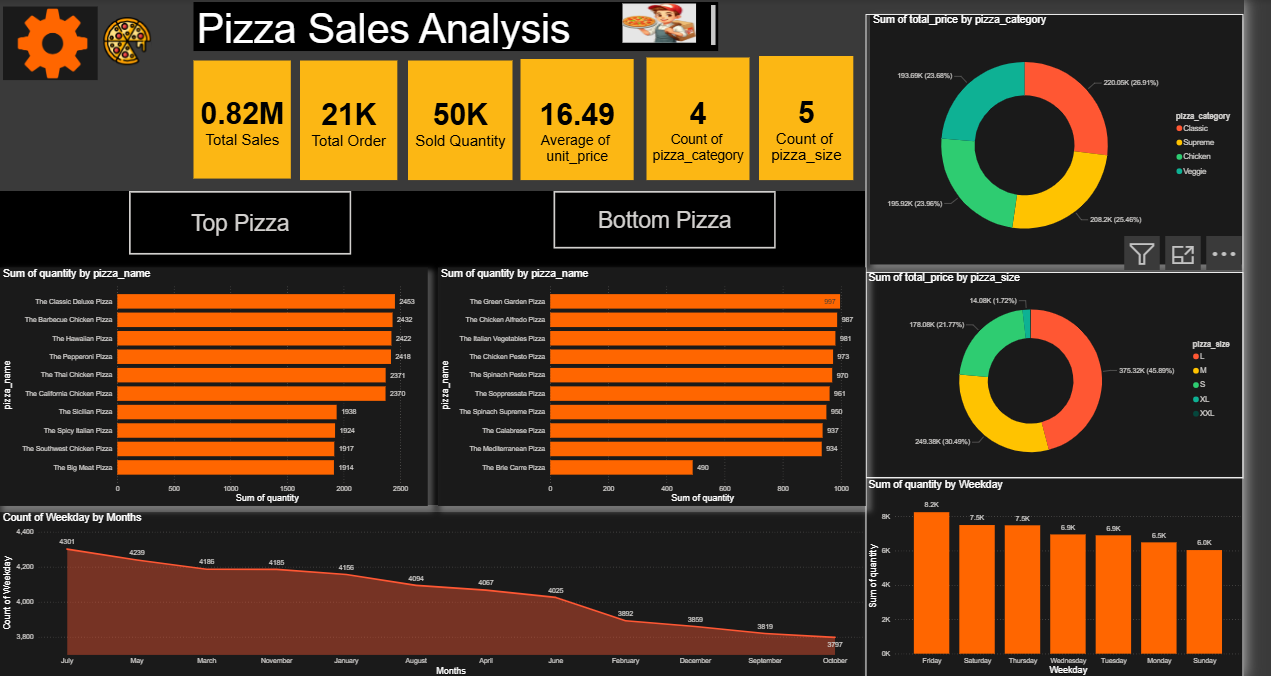

Layout of this report page (visuals, bound fields, positions):
{"tool":"powerbi","page":{"name":"Pizza Sales Analysis ","canvas":[2200,1200],"ordinal":0},"visuals":[{"type":"shape","box":[0,0,320.6,1200],"z":0,"group":"g3"},{"type":"donutChart","fields":{"Category":["pizza_sales.pizza_category"],"Y":["Sum(pizza_sales.total_price)"]},"box":[1538.5,27,657.5,442.7],"z":0,"group":"g1"},{"type":"barChart","fields":{"Category":["pizza_sales.pizza_name"],"Y":["Sum(pizza_sales.quantity)"]},"box":[773.2,473.8,755.9,421.3],"z":0,"group":"g2"},{"type":"areaChart","fields":{"Category":["pizza_sales.Months"],"Y":["CountNonNull(pizza_sales.Weekday)"]},"box":[0,906.6,1529.6,294.3],"z":0},{"type":"group","id":"g1","title":"Group 1","box":[1529.6,27,669,1172.6],"z":1000},{"type":"card","fields":{"Values":["pizza_sales.Total Sales"]},"box":[342,108.6,171.8,208.8],"z":1000,"group":"g4"},{"type":"barChart","fields":{"Category":["pizza_sales.pizza_name"],"Y":["Sum(pizza_sales.quantity)"]},"box":[0,473.8,755.9,421.3],"z":1000,"group":"g2"},{"type":"donutChart","fields":{"Y":["Sum(pizza_sales.total_price)"],"Category":["pizza_sales.pizza_size"]},"box":[1530.6,483,668.1,363.2],"z":1000,"group":"g1"},{"type":"actionButton","box":[3.2,1089.9,281.3,83.1],"z":1000,"group":"g3"},{"type":"group","id":"g2","title":"Group 4","box":[0,339.3,1529.6,554.1],"z":2000},{"type":"actionButton","box":[228.3,339.3,392.9,112.5],"z":2000,"group":"g2"},{"type":"slicer","fields":{"Values":["pizza_sales.Months"]},"box":[10.6,368.5,289,114],"z":2000,"group":"g3"},{"type":"columnChart","fields":{"Category":["pizza_sales.Weekday"],"Y":["Sum(pizza_sales.quantity)"]},"box":[1529.6,848.3,668.5,351.4],"z":2000,"group":"g1"},{"type":"image","title":"show","box":[0,3.2,177.7,151.9],"z":3000},{"type":"card","fields":{"Values":["pizza_sales.Total Order"]},"box":[529.5,108.6,171.8,211.4],"z":3000,"group":"g4"},{"type":"actionButton","box":[978.6,339.3,392.9,101.7],"z":3000,"group":"g2"},{"type":"slicer","fields":{"Values":["pizza_sales.order_date"]},"box":[0,943.8,299.6,111.3],"z":3000,"group":"g3"},{"type":"group","id":"g3","title":"Group 5","box":[0,0,320.6,1200],"z":4000},{"type":"card","fields":{"Values":["Avg(pizza_sales.unit_price)"]},"box":[920.5,106.7,199.8,214.1],"z":4000,"group":"g4"},{"type":"slicer","fields":{"Values":["pizza_sales.pizza_category"]},"box":[0,795.3,299.6,111.3],"z":4000,"group":"g3"},{"type":"actionButton","box":[159.9,0,131.5,149.3],"z":5000},{"type":"card","fields":{"Values":["pizza_sales.Sold Quantity"]},"box":[720.6,109.3,184.8,211.4],"z":5000,"group":"g4"},{"type":"slicer","fields":{"Values":["pizza_sales.pizza_size"]},"box":[0,665.4,299.6,111.3],"z":5000,"group":"g3"},{"type":"actionButton","box":[22.4,156.6,262.1,159.8],"z":5500,"group":"g3"},{"type":"textbox","box":[342.4,4.3,927.4,86.7],"z":6000},{"type":"slicer","fields":{"Values":["pizza_sales.Weekday"]},"box":[9.6,521,287.7,118.3],"z":6000,"group":"g3"},{"type":"image","title":"Hide","box":[0,0,177.6,152.2],"z":7000,"group":"g3"},{"type":"actionButton","box":[1100.7,8.7,130,69.3],"z":7000},{"type":"card","fields":{"Values":["Count(pizza_sales.pizza_category)"]},"box":[1141.3,103.3,182.3,216.7],"z":7000,"group":"g4"},{"type":"group","id":"g4","title":"Group 2","box":[342,100.7,1166.4,220],"z":8000},{"type":"card","fields":{"Values":["Count(pizza_sales.pizza_size)"]},"box":[1341.8,100.7,166.6,219.3],"z":9000,"group":"g4"}]}

Visuals, with their boxes in screenshot pixels (x1, y1, x2, y2), scaled from the page's 2200x1200 canvas onto the 1271x676 screenshot:
shape: {"x1": 0, "y1": 0, "x2": 185, "y2": 675}
donutChart - pizza_sales.pizza_category x Sum(pizza_sales.total_price): {"x1": 889, "y1": 15, "x2": 1269, "y2": 265}
barChart - pizza_sales.pizza_name x Sum(pizza_sales.quantity): {"x1": 447, "y1": 267, "x2": 883, "y2": 504}
areaChart - pizza_sales.Months x CountNonNull(pizza_sales.Weekday): {"x1": 0, "y1": 511, "x2": 884, "y2": 675}
"Group 1" group: {"x1": 884, "y1": 15, "x2": 1270, "y2": 675}
card - pizza_sales.Total Sales: {"x1": 198, "y1": 61, "x2": 297, "y2": 179}
barChart - pizza_sales.pizza_name x Sum(pizza_sales.quantity): {"x1": 0, "y1": 267, "x2": 437, "y2": 504}
donutChart - Sum(pizza_sales.total_price) x pizza_sales.pizza_size: {"x1": 884, "y1": 272, "x2": 1270, "y2": 477}
actionButton: {"x1": 2, "y1": 614, "x2": 164, "y2": 661}
"Group 4" group: {"x1": 0, "y1": 191, "x2": 884, "y2": 503}
actionButton: {"x1": 132, "y1": 191, "x2": 359, "y2": 255}
slicer - pizza_sales.Months: {"x1": 6, "y1": 208, "x2": 173, "y2": 272}
columnChart - pizza_sales.Weekday x Sum(pizza_sales.quantity): {"x1": 884, "y1": 478, "x2": 1270, "y2": 675}
"show" image: {"x1": 0, "y1": 2, "x2": 103, "y2": 87}
card - pizza_sales.Total Order: {"x1": 306, "y1": 61, "x2": 405, "y2": 180}
actionButton: {"x1": 565, "y1": 191, "x2": 792, "y2": 248}
slicer - pizza_sales.order_date: {"x1": 0, "y1": 532, "x2": 173, "y2": 594}
"Group 5" group: {"x1": 0, "y1": 0, "x2": 185, "y2": 675}
card - Avg(pizza_sales.unit_price): {"x1": 532, "y1": 60, "x2": 647, "y2": 181}
slicer - pizza_sales.pizza_category: {"x1": 0, "y1": 448, "x2": 173, "y2": 511}
actionButton: {"x1": 92, "y1": 0, "x2": 168, "y2": 84}
card - pizza_sales.Sold Quantity: {"x1": 416, "y1": 62, "x2": 523, "y2": 181}
slicer - pizza_sales.pizza_size: {"x1": 0, "y1": 375, "x2": 173, "y2": 438}
actionButton: {"x1": 13, "y1": 88, "x2": 164, "y2": 178}
textbox: {"x1": 198, "y1": 2, "x2": 734, "y2": 51}
slicer - pizza_sales.Weekday: {"x1": 6, "y1": 293, "x2": 172, "y2": 360}
"Hide" image: {"x1": 0, "y1": 0, "x2": 103, "y2": 86}
actionButton: {"x1": 636, "y1": 5, "x2": 711, "y2": 44}
card - Count(pizza_sales.pizza_category): {"x1": 659, "y1": 58, "x2": 765, "y2": 180}
"Group 2" group: {"x1": 198, "y1": 57, "x2": 871, "y2": 181}
card - Count(pizza_sales.pizza_size): {"x1": 775, "y1": 57, "x2": 871, "y2": 180}
